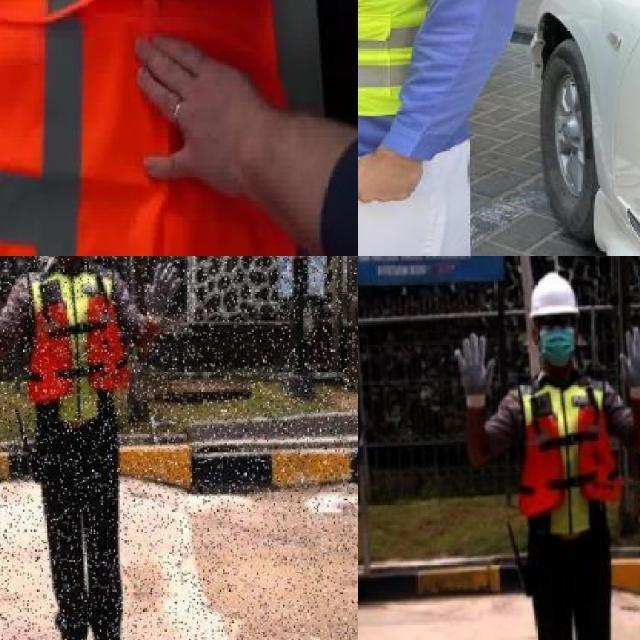apron: (452, 328, 497, 416), (139, 260, 184, 328), (619, 323, 640, 403)
